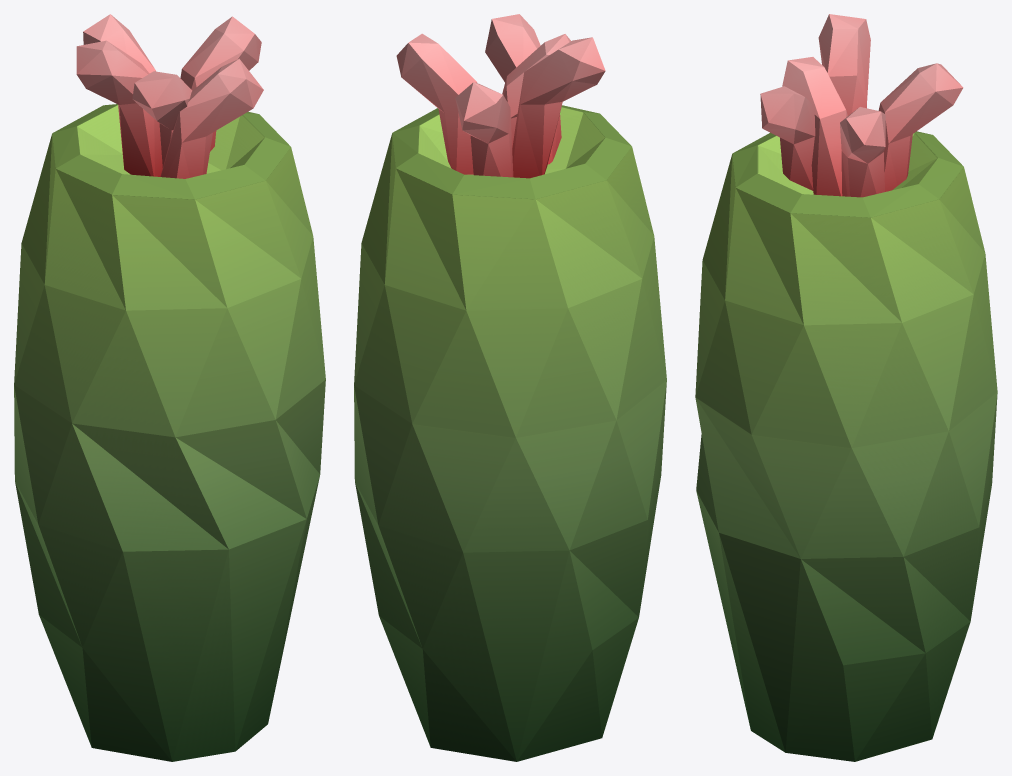
The model's file is SM_Spongia_21.fbx.
The picture shows the model from 3 angles, left to right: view 1: azimuth 30°, elevation 25°; view 2: azimuth 150°, elevation 25°; view 3: azimuth 270°, elevation 25°; orthographic projection. The views are drawn at different scales.
Parts seen in each view (by area): view 1: Spongia_21; view 2: Spongia_21; view 3: Spongia_21.
Boxes of the visible parts, x1,y1,x2,y2 form: Spongia_21: (14,14,325,761); Spongia_21: (354,14,666,761); Spongia_21: (695,14,997,761).
Size of the model in its own units: 32.93 by 80.66 by 32.77.
